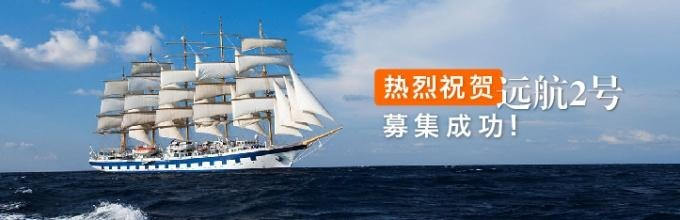fanchuan: (80, 18, 341, 175)
